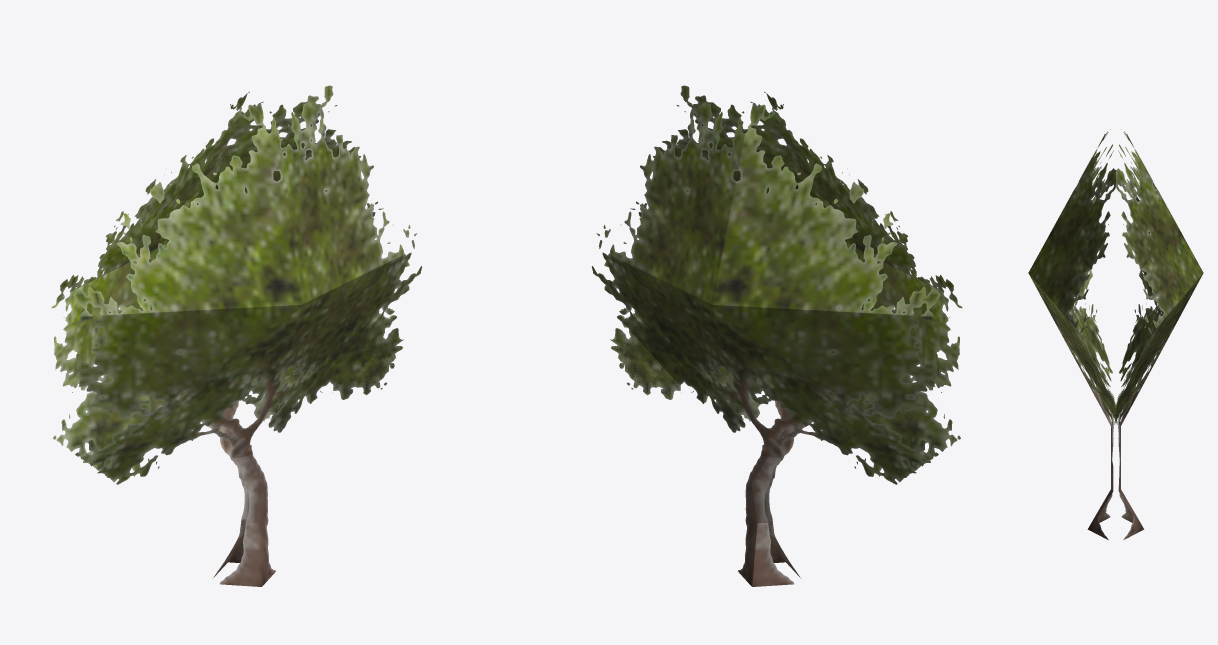
Rendered from OliveTree.fbx.
3 renders of one model, left to right at view 1: azimuth 30°, elevation 25°; view 2: azimuth 150°, elevation 25°; view 3: azimuth 270°, elevation 25°, orthographic. The views are drawn at different scales.
Parts seen in each view (by area): view 1: OliveTree; view 2: OliveTree; view 3: OliveTree.
Boxes of the visible parts, <box> form: OliveTree: <box>51,85,421,586</box>; OliveTree: <box>592,85,962,586</box>; OliveTree: <box>1028,129,1203,540</box>.
Bounding box in the file's own units: 1714 × 1714 × 647.
